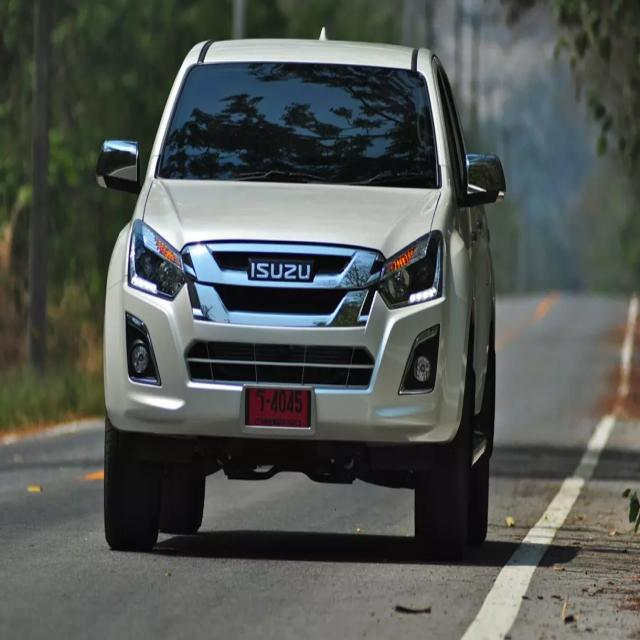license_plate: (242, 382, 317, 438)
